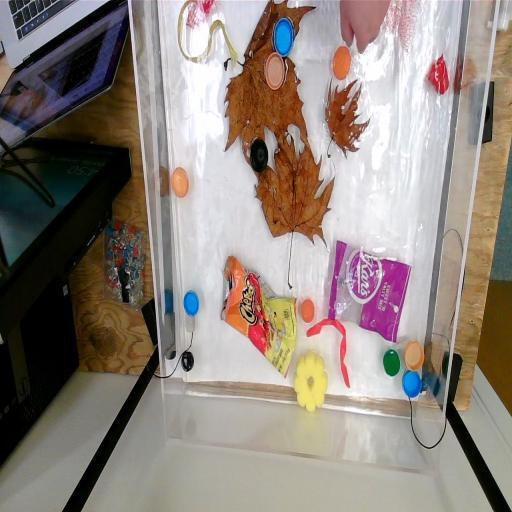Bottle Cap: (261, 51, 286, 89), (272, 17, 295, 56), (330, 46, 352, 82), (404, 338, 426, 372), (170, 165, 190, 201), (249, 138, 269, 174), (402, 370, 422, 399), (382, 348, 401, 378), (181, 290, 200, 318), (300, 296, 316, 326), (179, 349, 196, 372)
Cone Cap: (425, 51, 451, 98)
Leaf: (226, 2, 315, 148), (256, 140, 334, 288), (322, 76, 371, 161)
Netting: (386, 0, 416, 56), (185, 0, 217, 28)
Plastic Bag: (219, 252, 297, 378), (330, 238, 412, 342)
Plastic Strand: (175, 0, 239, 68), (306, 316, 352, 390)
Sponge: (294, 353, 328, 413)
